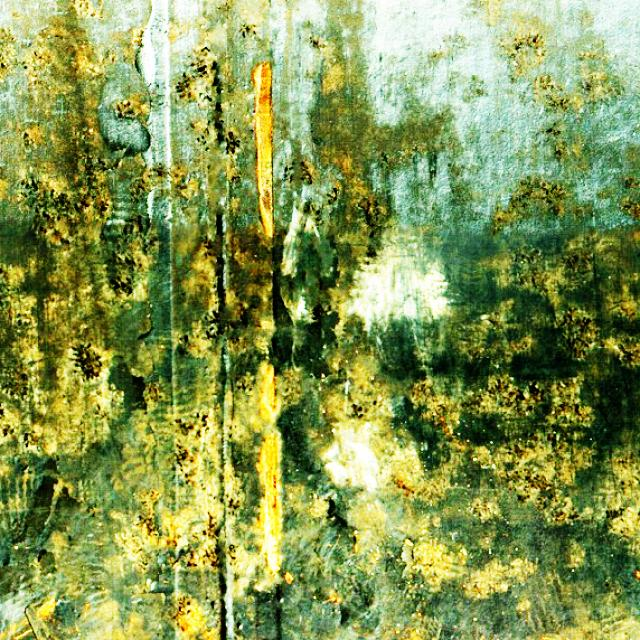Corrosion: (254, 62, 273, 240), (257, 435, 281, 574), (261, 366, 279, 419), (177, 606, 200, 634), (39, 598, 57, 616), (203, 629, 216, 640), (326, 597, 342, 604), (285, 572, 293, 585)
